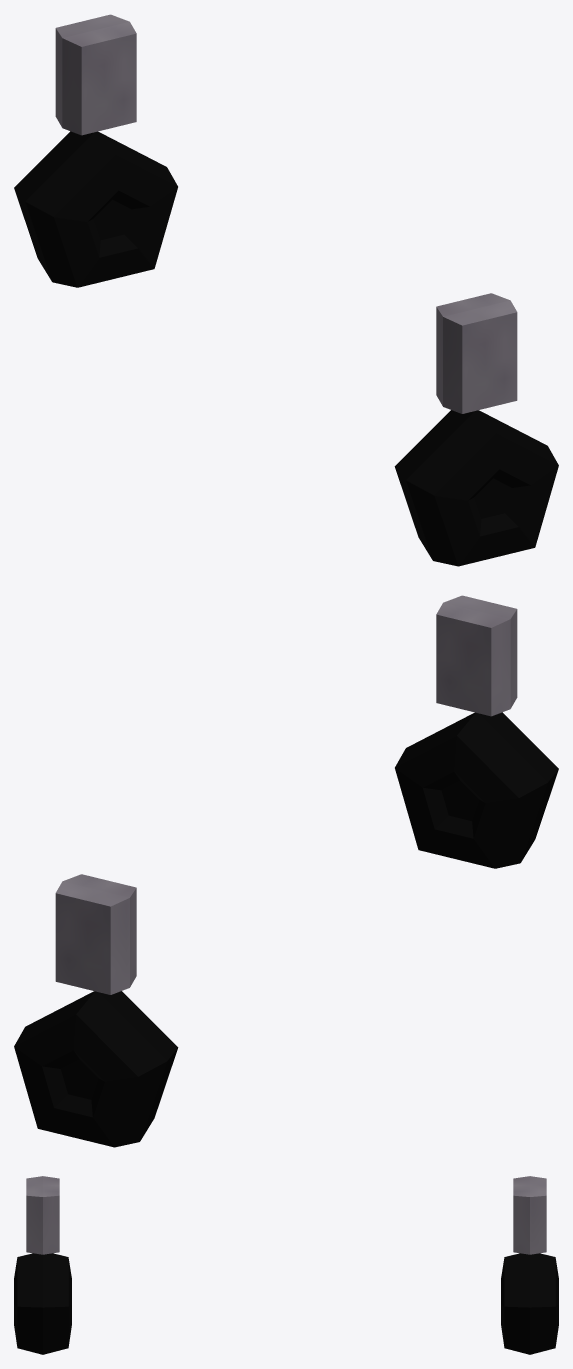
The model's file is WW2BomberFrontWheels.fbx.
The picture shows the model from 3 angles, top to bottom: view 1: azimuth 30°, elevation 25°; view 2: azimuth 150°, elevation 25°; view 3: azimuth 270°, elevation 25°; orthographic projection. The views are drawn at different scales.
Visible parts, largest first — view 1: Cube.005; view 2: Cube.005; view 3: Cube.005.
Boxes of the visible parts, x1,y1,x2,y2 form: Cube.005: (14, 14, 558, 566); Cube.005: (14, 595, 558, 1147); Cube.005: (14, 1176, 558, 1354).
Size of the model in its own units: 9.89 by 16.11 by 51.48.
